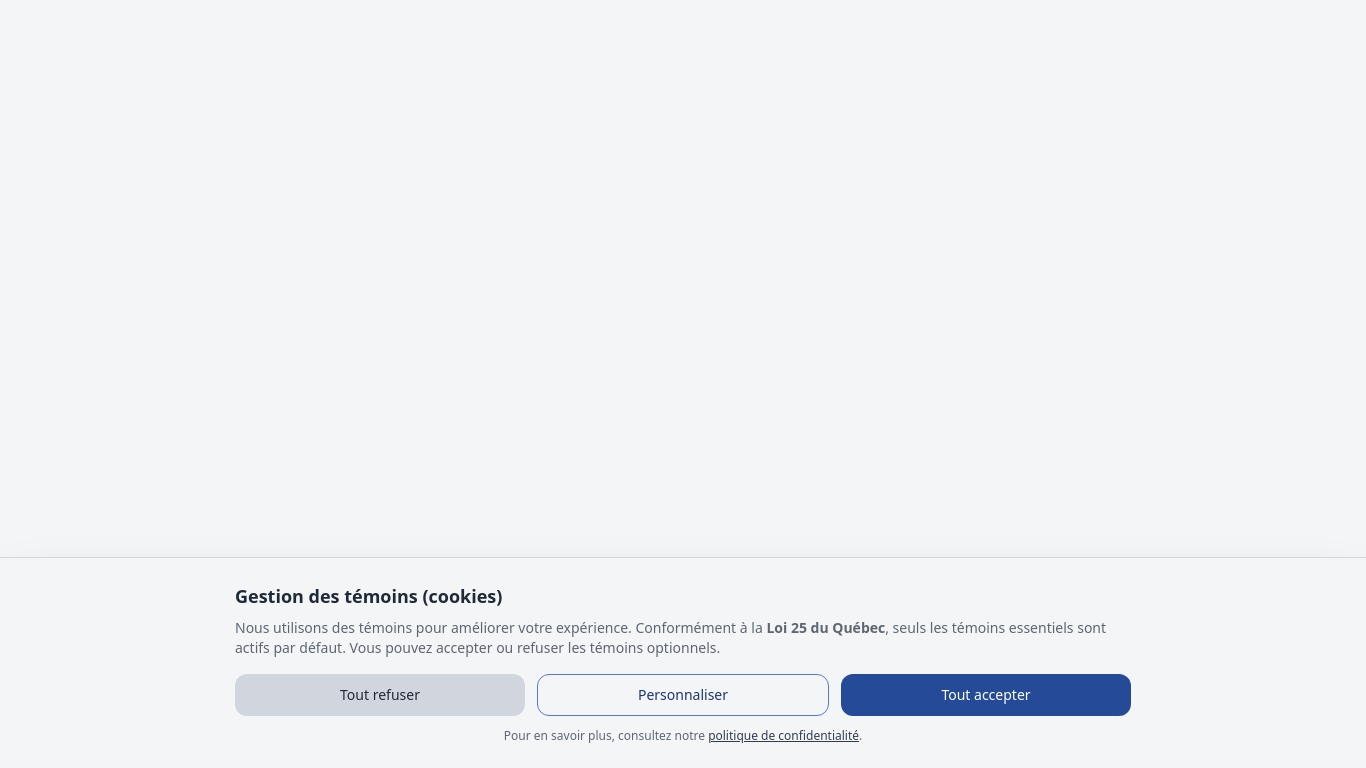
Test: CookieConsent › shows detail categories when personalize is clicked
What coordinates should you click on to do the following:
click the button "Personnaliser"
I would click on:
 (683, 695)
Its box is left=537, top=674, right=829, bottom=716.
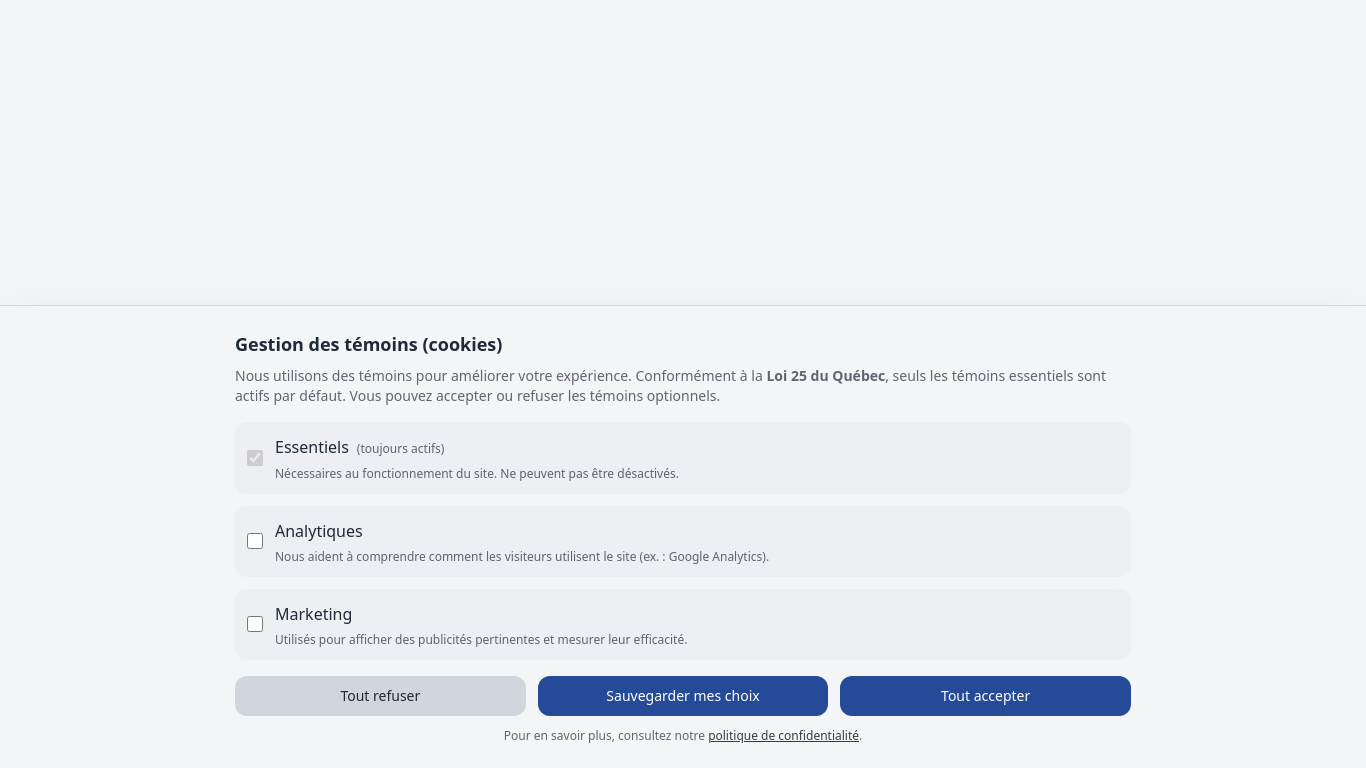
Expected: the text "Essentiels" is shown, left=275, top=436, right=349, bottom=458
Expected: the text "Analytiques" is shown, left=275, top=520, right=363, bottom=542
Expected: the text "Marketing" is shown, left=275, top=603, right=352, bottom=625
